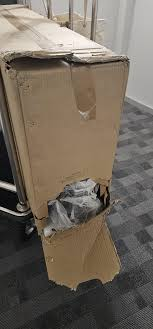damaged package: (40, 175, 112, 239), (48, 243, 126, 288), (6, 54, 133, 75)
